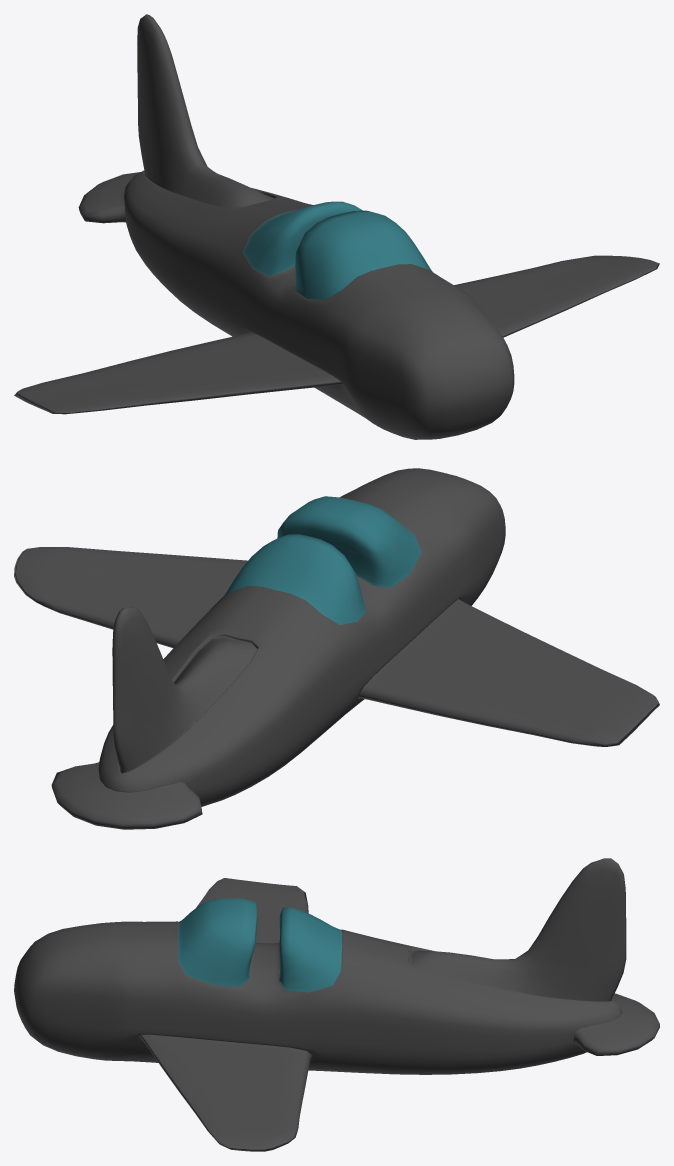
File: CuerpoAvion3.obj
3 renders of one model, top to bottom at view 1: azimuth 30°, elevation 25°; view 2: azimuth 150°, elevation 25°; view 3: azimuth 270°, elevation 25°, orthographic. The views are drawn at different scales.
Visible parts, largest first — view 1: Cuerpo_Avion3 Avion3 CuerpoA3, polySurface3 ParabrisasA3 Cuerpo_Avion3 Avion3, ParabrisasA3 Cuerpo_Avion3 Avion3 Parabrisas2; view 2: Cuerpo_Avion3 Avion3 CuerpoA3, polySurface3 ParabrisasA3 Cuerpo_Avion3 Avion3, ParabrisasA3 Cuerpo_Avion3 Avion3 Parabrisas2; view 3: Cuerpo_Avion3 Avion3 CuerpoA3, polySurface3 ParabrisasA3 Cuerpo_Avion3 Avion3, ParabrisasA3 Cuerpo_Avion3 Avion3 Parabrisas2.
Boxes of the visible parts, x1,y1,x2,y2 form: Cuerpo_Avion3 Avion3 CuerpoA3: (14, 14, 659, 439); polySurface3 ParabrisasA3 Cuerpo_Avion3 Avion3: (295, 210, 432, 299); ParabrisasA3 Cuerpo_Avion3 Avion3 Parabrisas2: (243, 201, 362, 275); Cuerpo_Avion3 Avion3 CuerpoA3: (14, 468, 659, 829); polySurface3 ParabrisasA3 Cuerpo_Avion3 Avion3: (277, 496, 421, 588); ParabrisasA3 Cuerpo_Avion3 Avion3 Parabrisas2: (224, 534, 366, 624); Cuerpo_Avion3 Avion3 CuerpoA3: (14, 858, 659, 1151); polySurface3 ParabrisasA3 Cuerpo_Avion3 Avion3: (178, 898, 257, 986); ParabrisasA3 Cuerpo_Avion3 Avion3 Parabrisas2: (279, 907, 342, 992).
Bounding box in the file's own units: 5.08 × 1.77 × 5.12.
